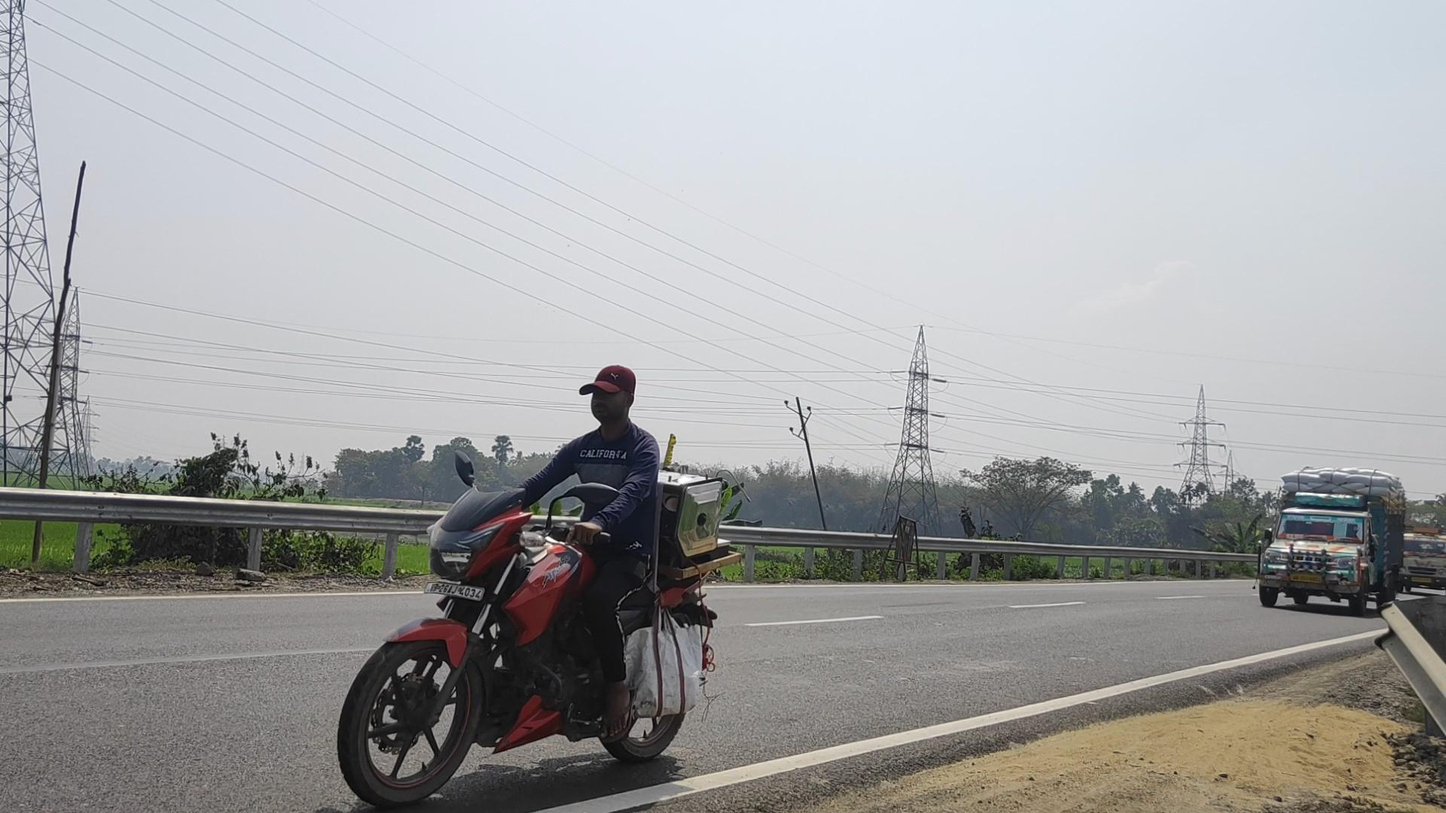bike: (338, 365, 743, 813)
van: (1258, 467, 1406, 616)
